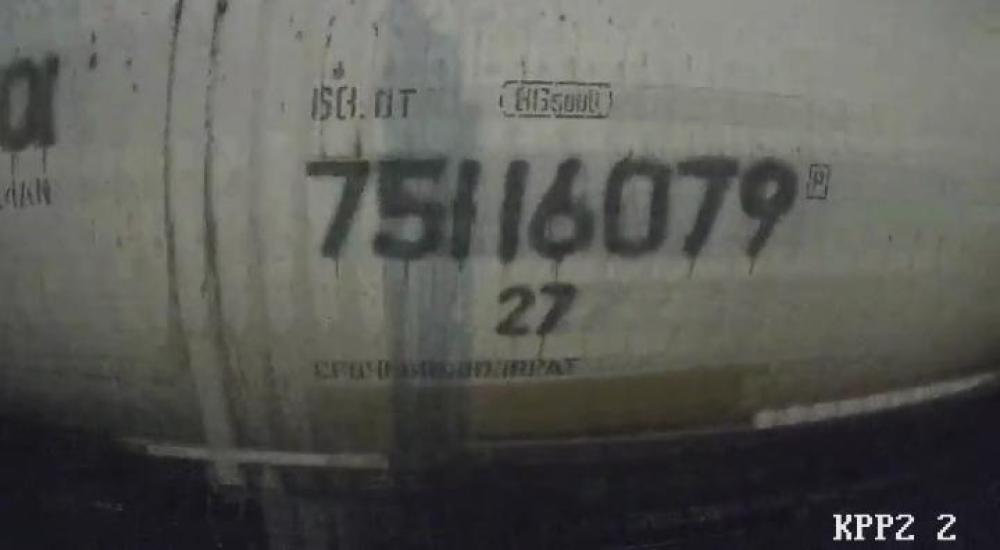Wagon-number: (299, 143, 804, 269)
